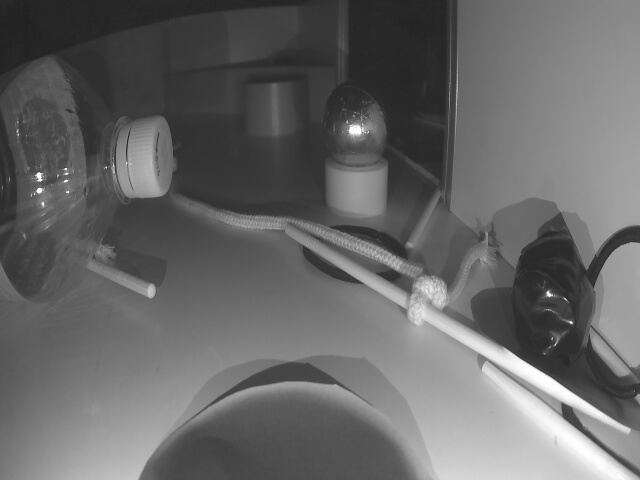Dead: (517, 234, 595, 364)
Live: (322, 80, 386, 159)
Point: (160, 63, 330, 118)
